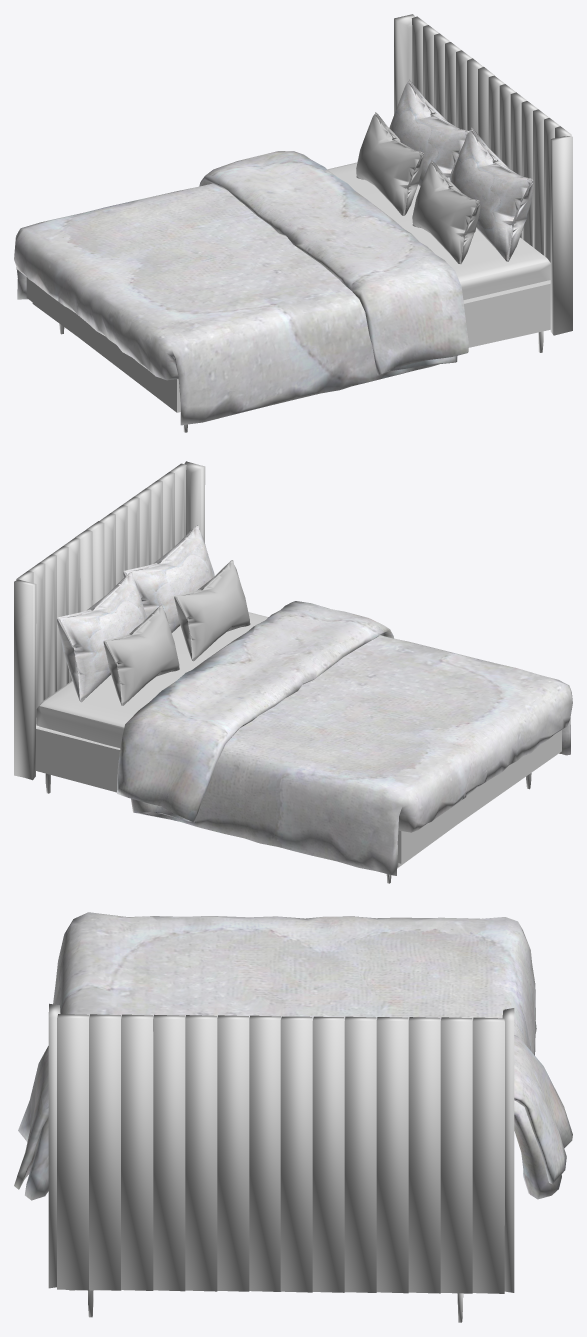
The model's file is Bed.fbx.
The picture shows the model from 3 angles, top to bottom: view 1: azimuth 30°, elevation 25°; view 2: azimuth 150°, elevation 25°; view 3: azimuth 270°, elevation 25°; orthographic projection. The views are drawn at different scales.
Parts seen in each view (by area): view 1: coverlet, Cube.008, Cube.002, Box004.001, Box004.003, Box004.002, Box004; view 2: coverlet, Cube.008, Cube.002, Box004, Box004.003, Box004.002, Box004.001; view 3: Cube.008, coverlet.
Boxes of the visible parts, left/top/right/bottom form: coverlet: left=14, top=151, right=468, bottom=425; Cube.008: left=26, top=14, right=572, bottom=412; Cube.002: left=328, top=162, right=550, bottom=300; Box004.001: left=450, top=127, right=533, bottom=261; Box004.003: left=412, top=160, right=480, bottom=264; Box004.002: left=356, top=112, right=424, bottom=215; Box004: left=389, top=79, right=469, bottom=186; coverlet: left=117, top=601, right=572, bottom=875; Cube.008: left=14, top=461, right=561, bottom=867; Cube.002: left=36, top=612, right=268, bottom=748; Box004: left=57, top=572, right=146, bottom=702; Box004.003: left=174, top=560, right=250, bottom=661; Box004.002: left=103, top=604, right=179, bottom=705; Box004.001: left=123, top=525, right=214, bottom=632; Cube.008: left=48, top=1003, right=514, bottom=1293; coverlet: left=14, top=912, right=572, bottom=1200.
Size of the model in its own units: 477 by 249 by 404.
